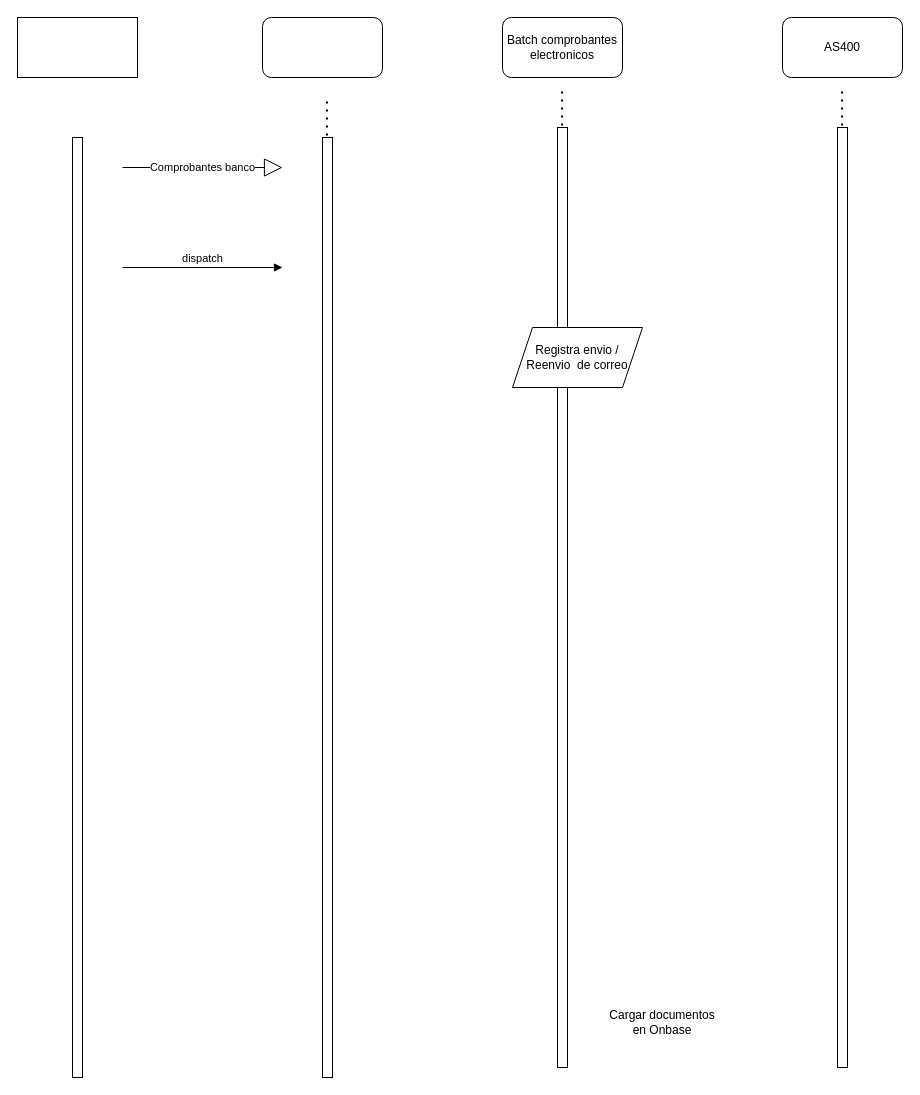
Image size: 920x1095. Some labels were removed from this diagram. Each missing label, with the box of its shape:
Comprobantes descarga: (16, 16, 138, 78)
SFTP Banco: (262, 16, 382, 78)
